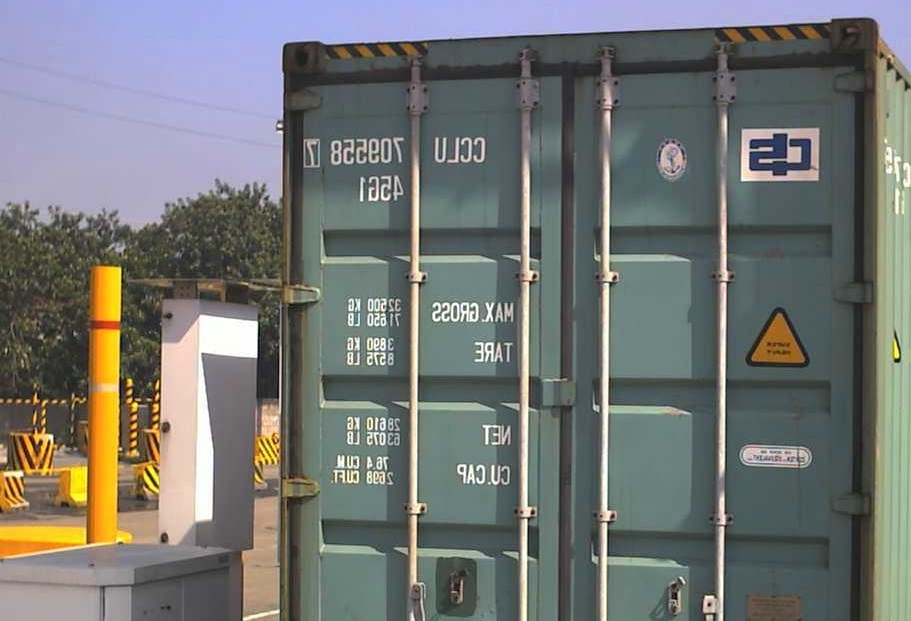container_door: (281, 11, 879, 620)
